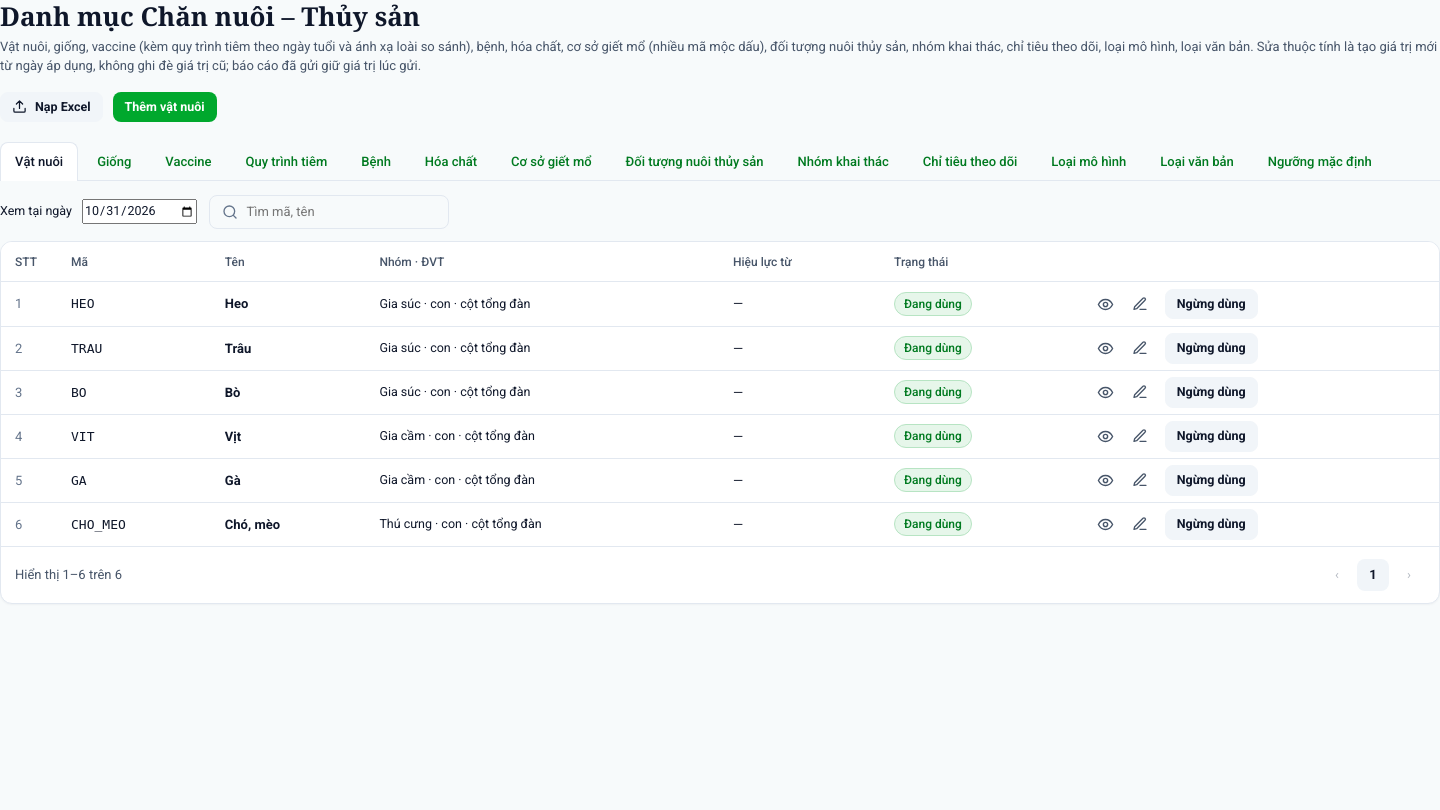
màn Danh mục CNTS (mock theo hợp đồng /v1/masterdata/catalogs/cnts_*) › Ngừng dùng: pop-up lý do ngắn, lý do < 10 ký tự bị chặn trước khi gọi API
Click the 1st button "Ngừng dùng".
click(1211, 304)  # box [1165,289,1258,319]
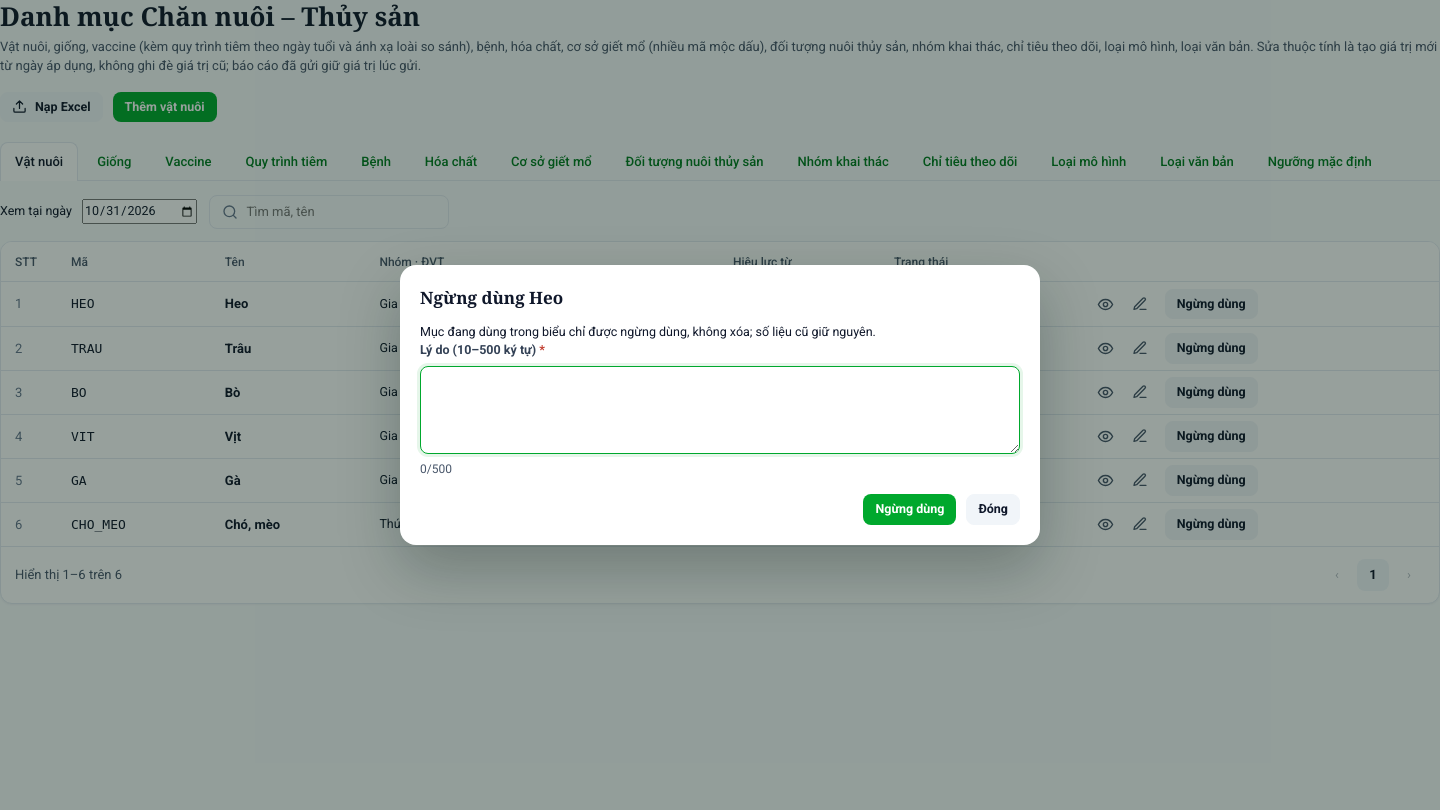
Type "ngắn" into the text box labelled "Lý do (10–500 ký tự) *".
click(720, 410); type("ngắn")  # box [420,366,1020,454]
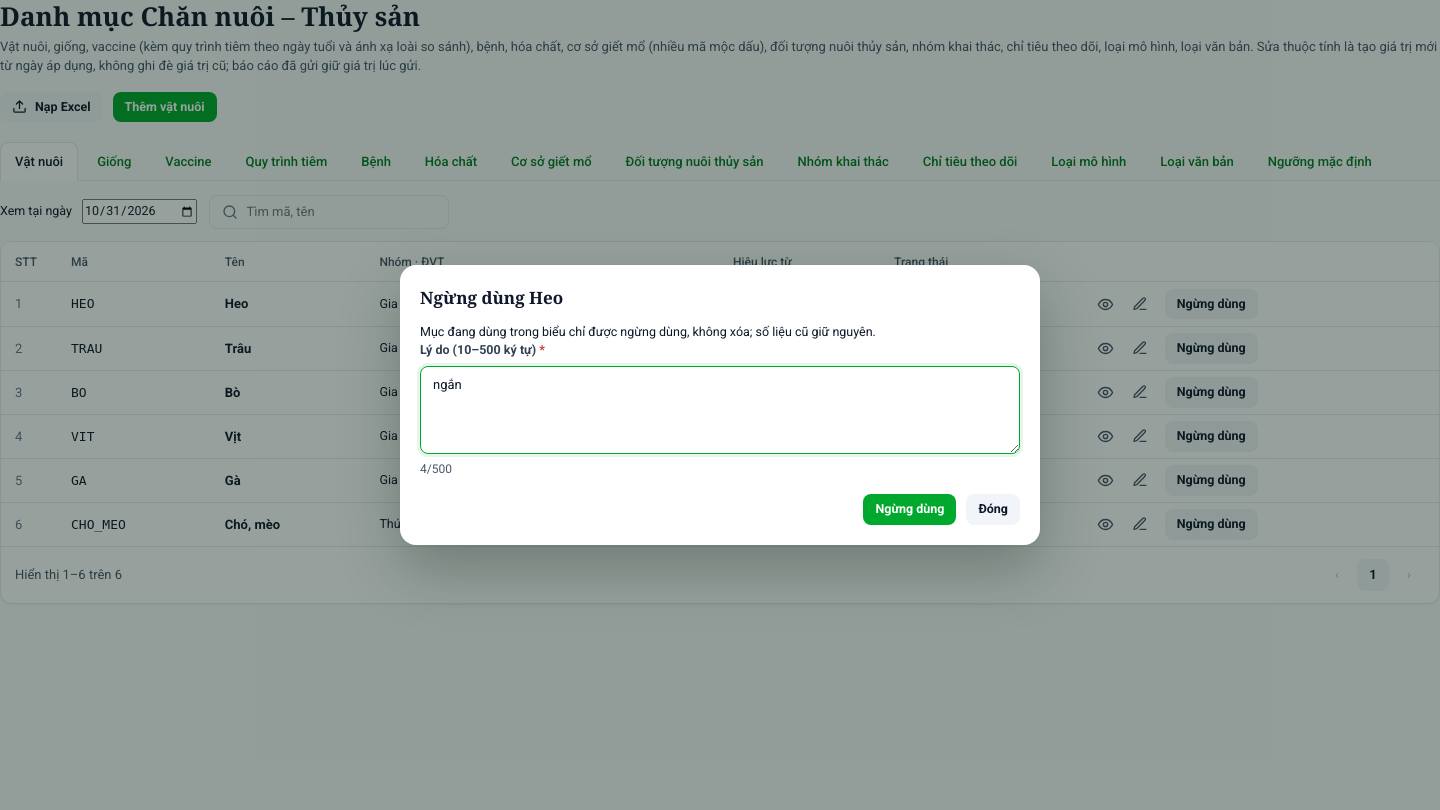
Click the button "Ngừng dùng".
click(910, 510)  # box [864,494,956,525]
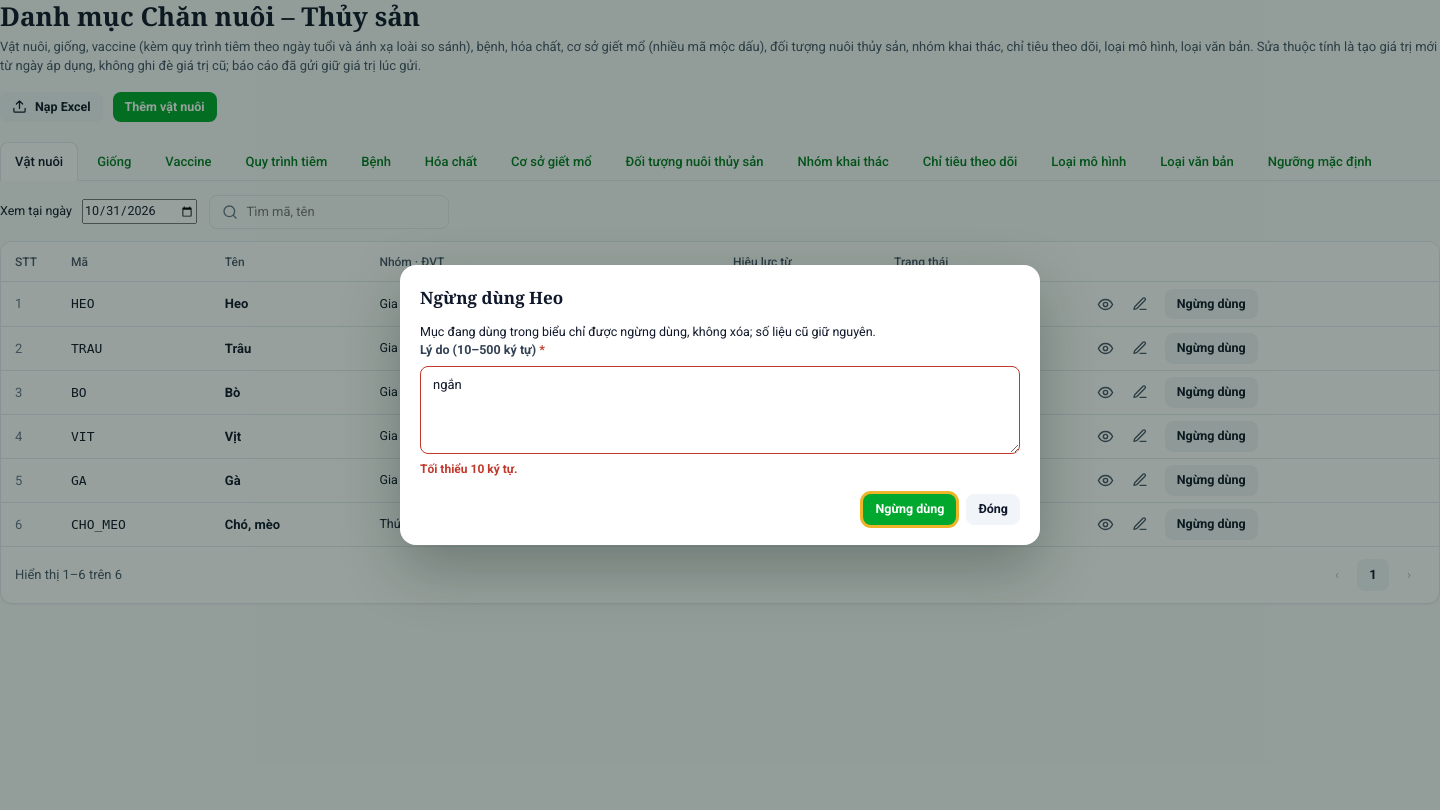
Result: the message reads "Tối thiểu 10 ký tự." at [420,462,518,476]
